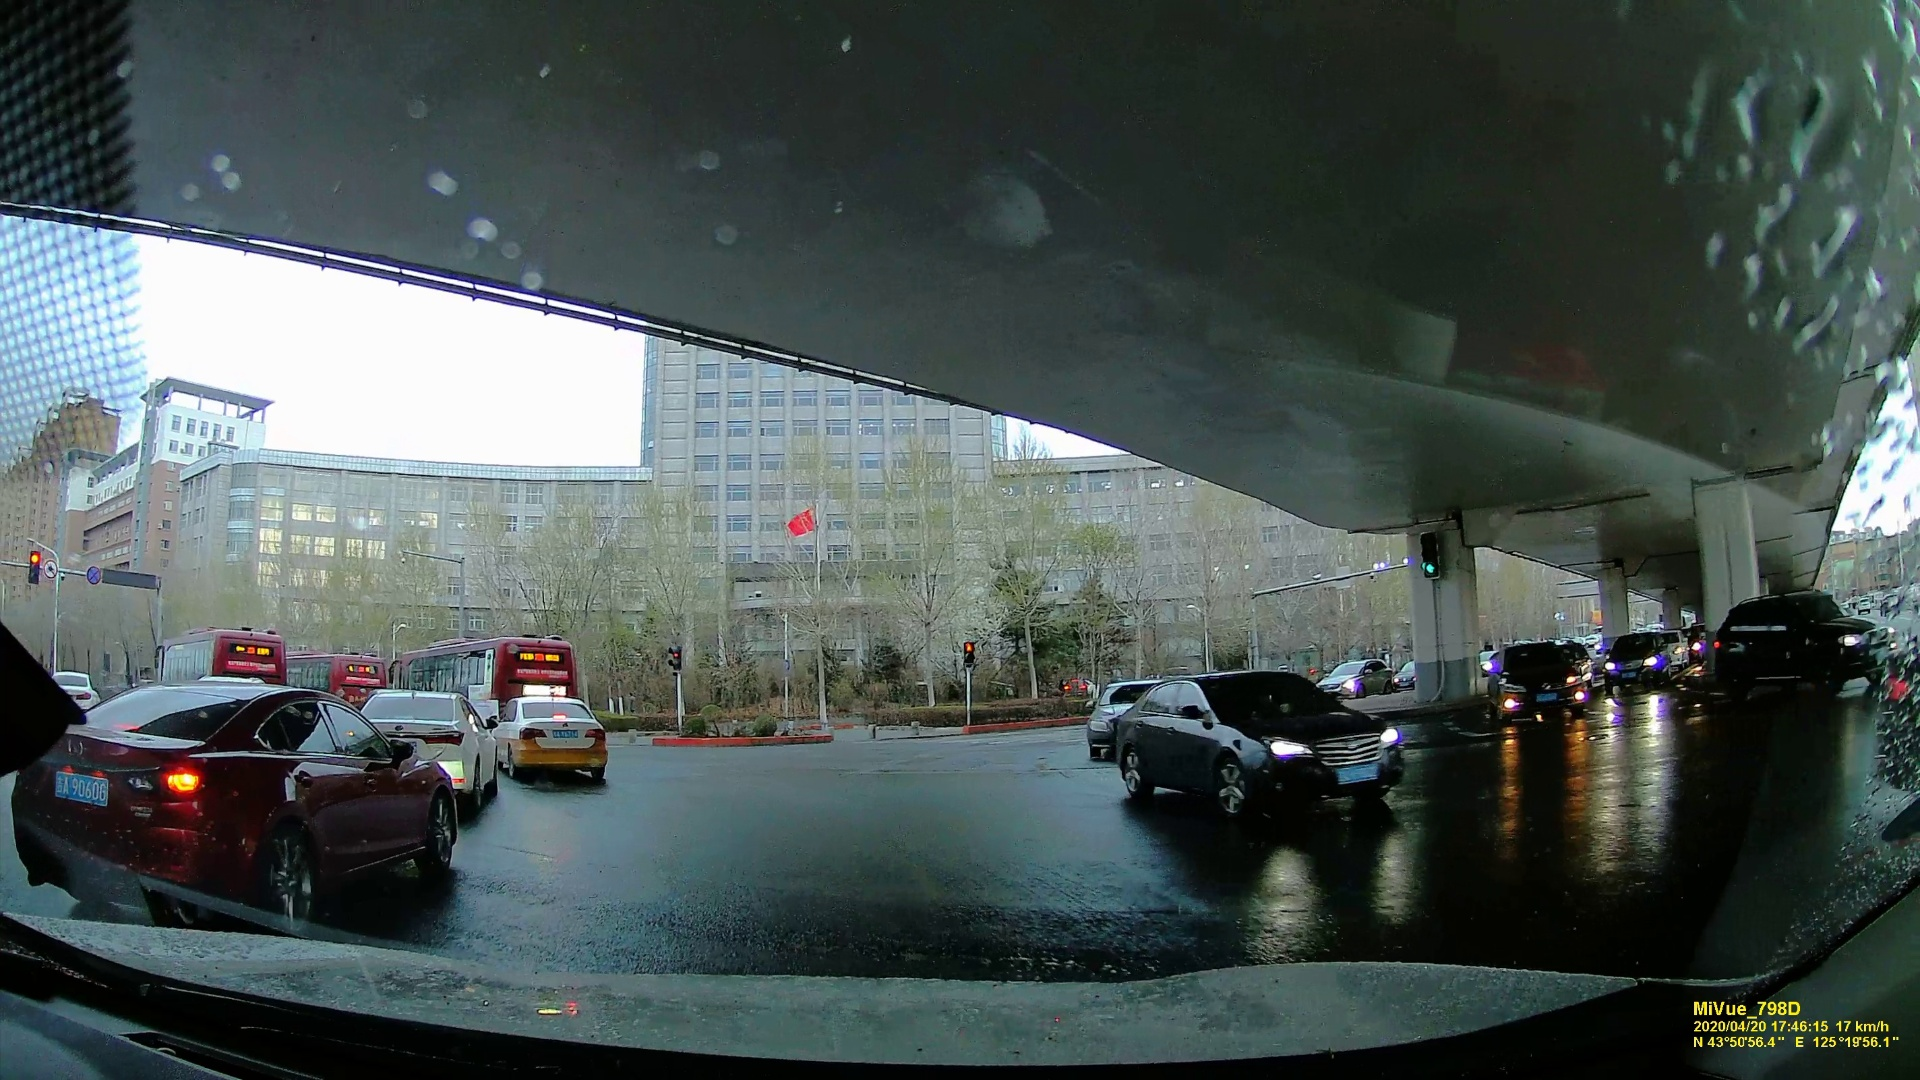bus: (404, 636, 578, 699), (154, 628, 286, 684)
traffic_sign: (1418, 531, 1443, 582), (665, 642, 682, 675), (26, 546, 41, 584), (961, 640, 977, 663)
vehicle: (11, 686, 442, 926), (1124, 670, 1389, 804), (1705, 587, 1898, 698), (487, 698, 611, 789), (1491, 638, 1600, 720), (1606, 629, 1683, 684), (57, 676, 99, 702)
